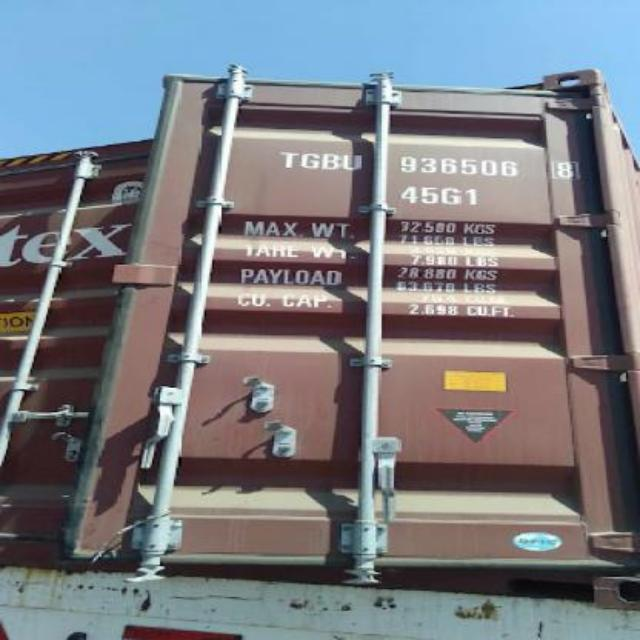0: (480, 154, 500, 183)
3: (420, 156, 438, 177)
5: (464, 155, 480, 181)
6: (438, 154, 459, 182), (500, 158, 520, 182)
8: (554, 160, 580, 184)
9: (400, 153, 418, 177)
B: (322, 148, 338, 176)
G: (302, 149, 322, 175)
T: (274, 145, 300, 171)
U: (340, 150, 364, 178)
